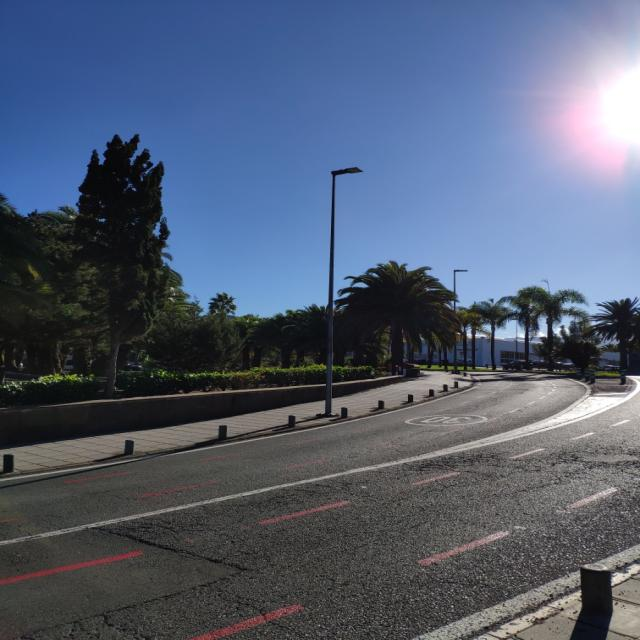Palm-Trees: (336, 263, 461, 365)
